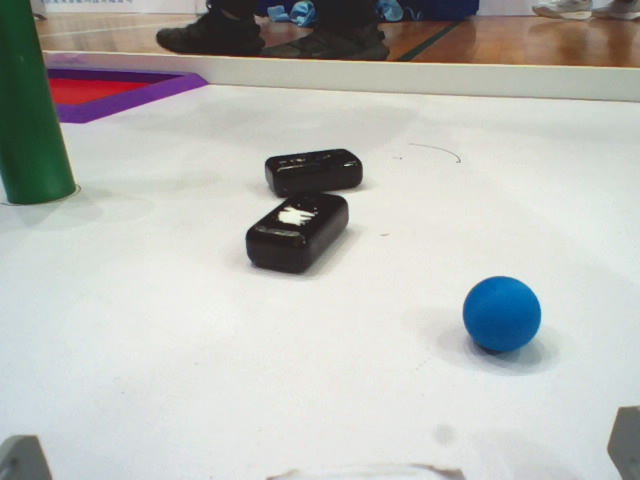black: (237, 192, 367, 295), (228, 142, 396, 192)
blue: (462, 273, 560, 367)
kuang: (1, 57, 217, 126)
zhuzi: (1, 1, 101, 221)
